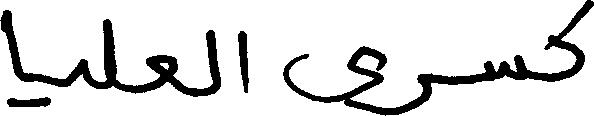X: (283, 41, 385, 115), (548, 0, 593, 86), (0, 5, 24, 111), (387, 68, 431, 115), (147, 50, 178, 95), (487, 50, 524, 85), (105, 0, 115, 115), (207, 25, 219, 100), (239, 26, 248, 97), (77, 54, 88, 88)
